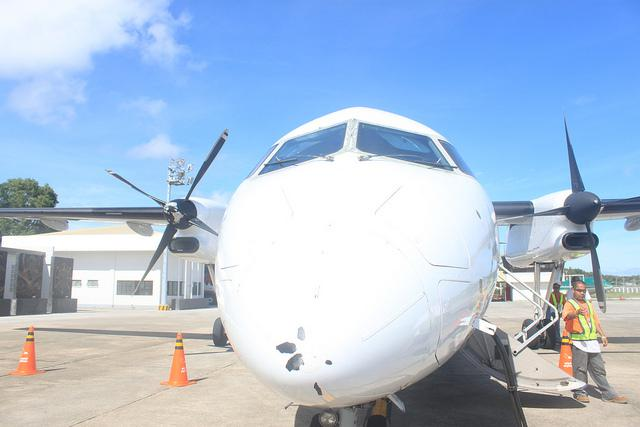Airplane: (0, 87, 640, 427)
